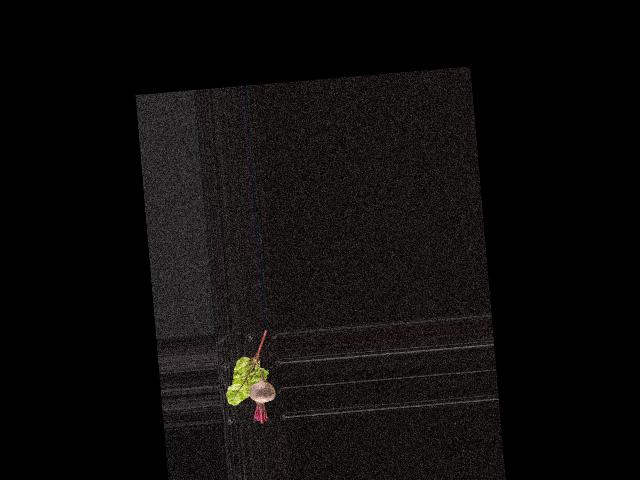beet: (246, 355, 278, 424)
